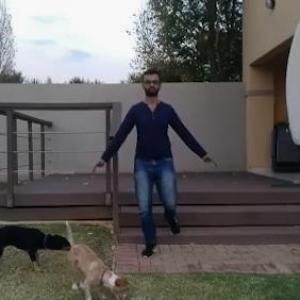land: (112, 78, 199, 241)
